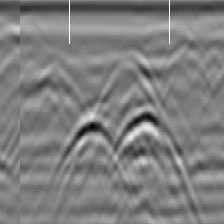Utility: (116, 106, 186, 191), (59, 117, 115, 179), (106, 38, 152, 95)
